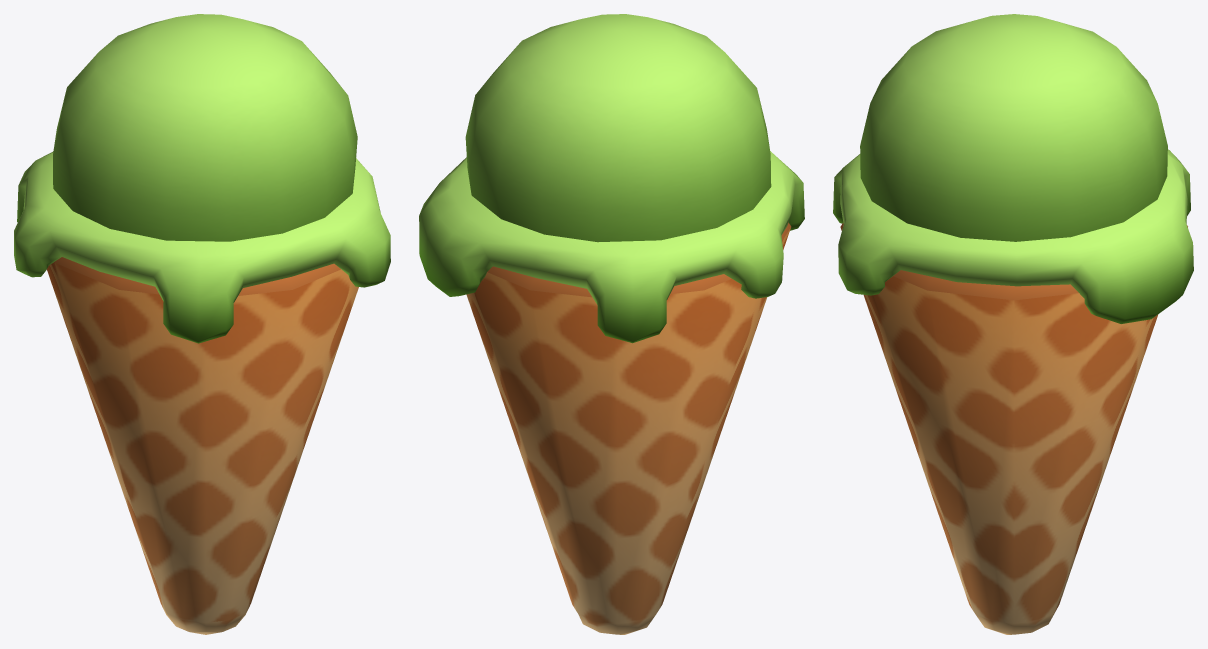
Rendered from m_IceCream05.fbx.
3 views of the same model, side by side, from view 1: azimuth 30°, elevation 25°; view 2: azimuth 150°, elevation 25°; view 3: azimuth 270°, elevation 25° (orthographic).
Parts seen in each view (by area): view 1: m_IceCream05; view 2: m_IceCream05; view 3: m_IceCream05.
Boxes of the visible parts, left/top/right/bottom form: m_IceCream05: left=14, top=14, right=390, bottom=634; m_IceCream05: left=419, top=14, right=804, bottom=634; m_IceCream05: left=833, top=14, right=1193, bottom=634.
Size of the model in its own units: 9.64 by 16.94 by 9.25.
